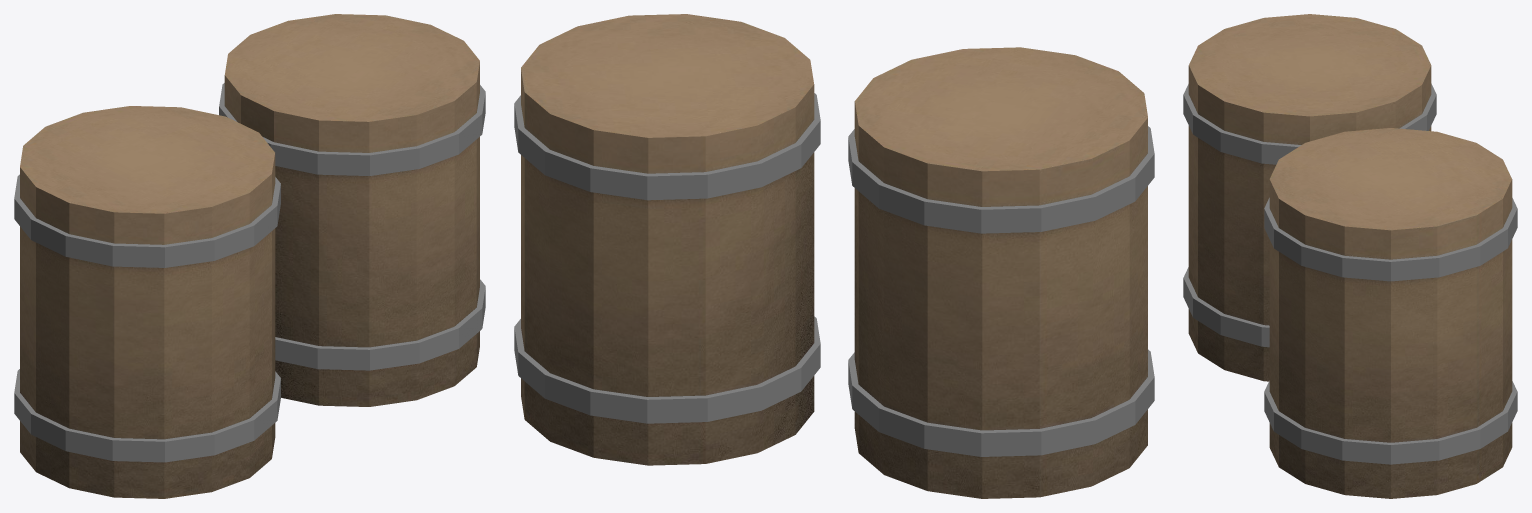
File: p_fass.glb
3 renders of one model, left to right at view 1: azimuth 30°, elevation 25°; view 2: azimuth 150°, elevation 25°; view 3: azimuth 270°, elevation 25°, orthographic. The views are drawn at different scales.
Visible parts, largest first — view 1: p_fass, p_fass_details; view 2: p_fass, p_fass_details; view 3: p_fass, p_fass_details.
Boxes of the visible parts, x1,y1,x2,y2 form: p_fass: (20,14,479,498); p_fass_details: (14,83,485,462); p_fass: (521,14,1147,498); p_fass_details: (514,93,1154,456); p_fass: (1188,14,1512,498); p_fass_details: (1183,83,1517,464).
Bounding box in the file's own units: 0.194 × 0.11 × 0.124.
Materials: 2 (1 with a texture image).
